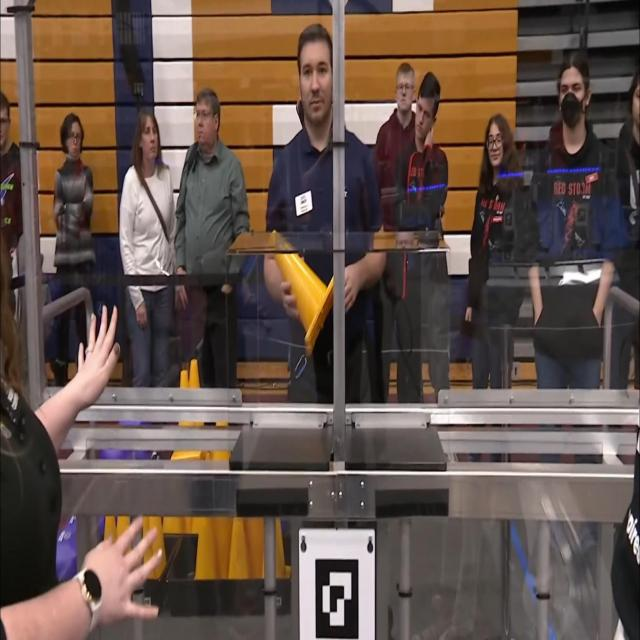frc_cone: (268, 223, 340, 352), (169, 368, 202, 459), (266, 512, 292, 583), (195, 514, 217, 592), (249, 508, 270, 582), (213, 516, 236, 578), (150, 506, 170, 574), (210, 403, 232, 463), (229, 520, 250, 578), (138, 507, 153, 579), (115, 513, 133, 545), (164, 512, 185, 539), (105, 515, 118, 549), (188, 359, 200, 388)
frc_cube: (54, 529, 79, 575), (72, 508, 105, 538), (102, 437, 132, 467), (117, 412, 145, 433), (131, 446, 150, 464)
